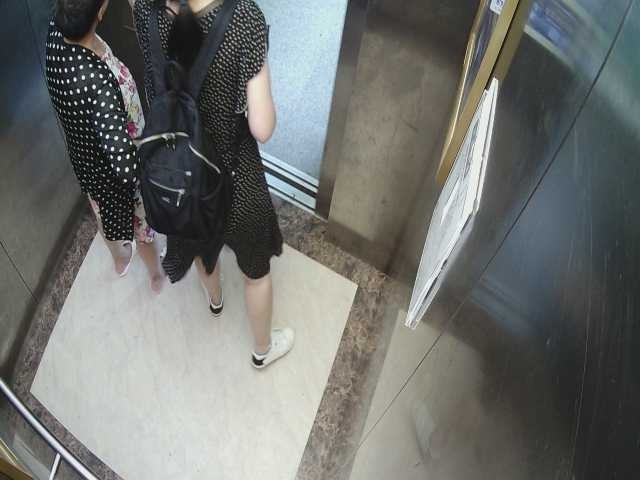bag: (126, 78, 236, 249)
